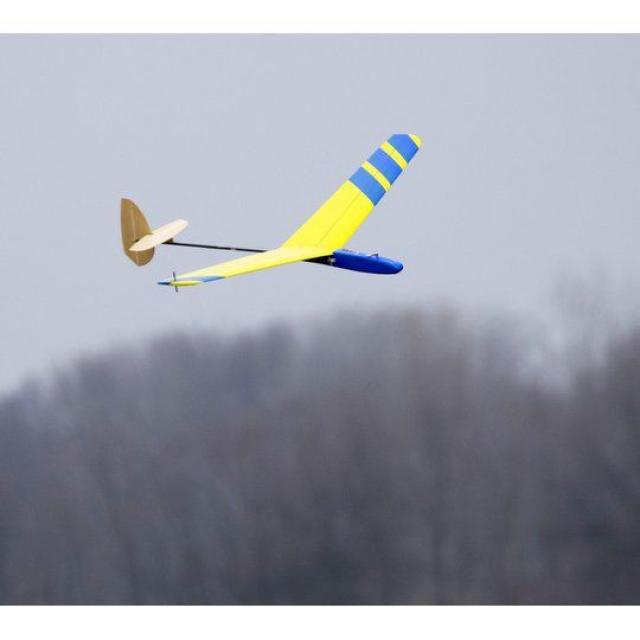iha: (119, 131, 422, 295)
